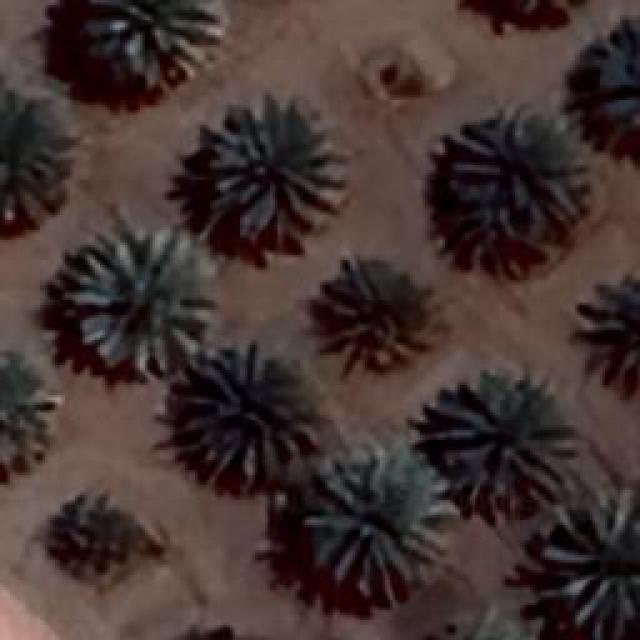PalmTree: (60, 220, 218, 378), (302, 448, 456, 600), (205, 100, 353, 250), (170, 342, 322, 488), (434, 370, 578, 508), (442, 112, 588, 238), (312, 258, 446, 372), (542, 490, 638, 638), (90, 0, 220, 80), (0, 88, 65, 222), (577, 20, 640, 157), (0, 347, 60, 475), (48, 500, 142, 575), (587, 284, 640, 407), (463, 0, 592, 36), (423, 604, 552, 640)
